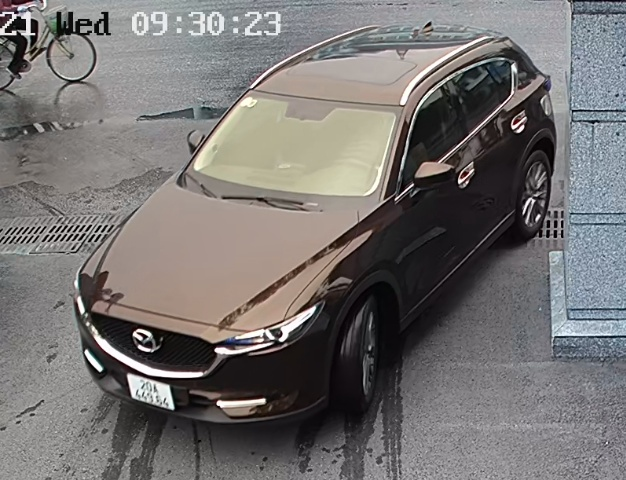vehicle plate: (122, 367, 177, 416)
